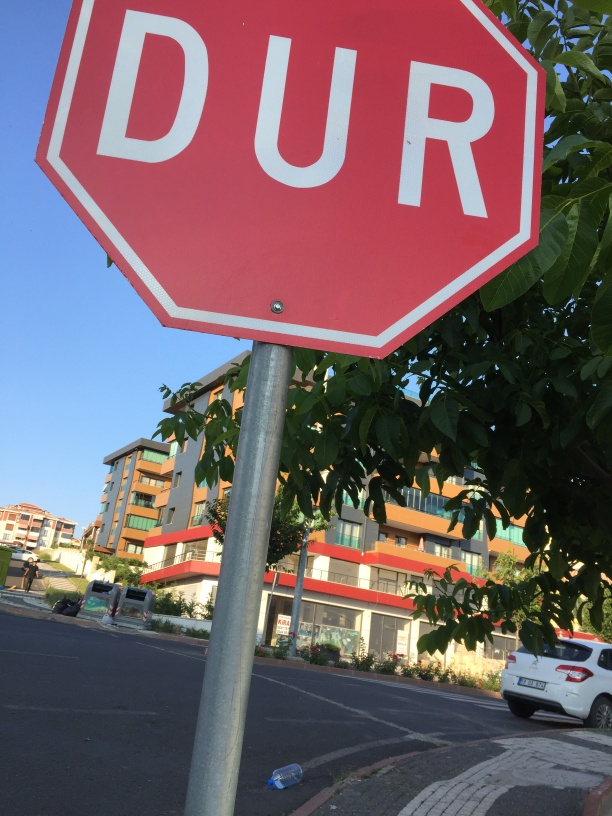arac_dur_isareti: (35, 0, 571, 650), (49, 20, 440, 580)
